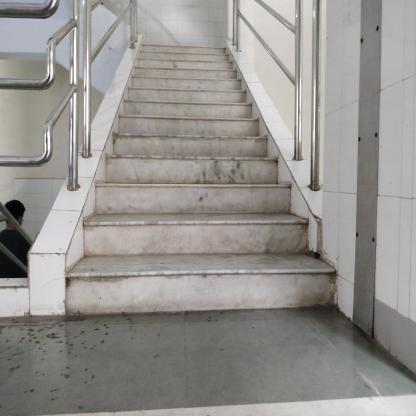stairs: (106, 126, 259, 323)
